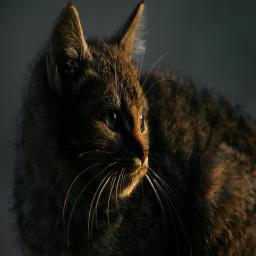catnose: (138, 150, 148, 164)
